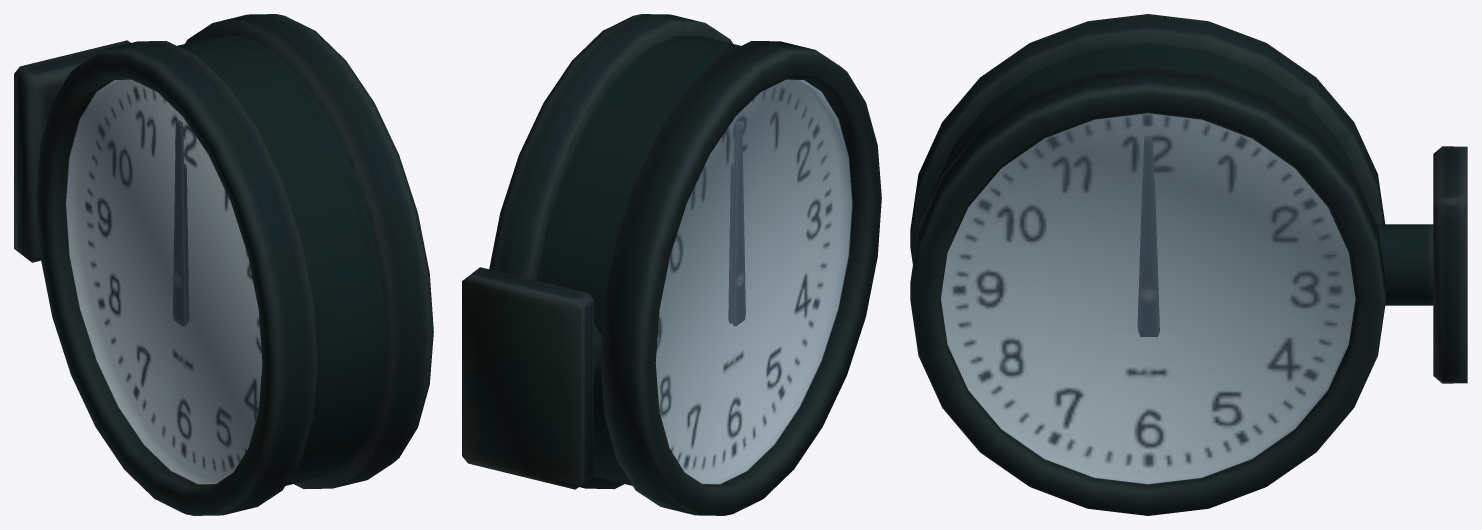
3 views of the same model, side by side, from view 1: azimuth 30°, elevation 25°; view 2: azimuth 150°, elevation 25°; view 3: azimuth 270°, elevation 25° (orthographic).
Bounding box in the file's own units: 2.7 × 7 × 8.2.
Materials: 2 (1 with a texture image).
